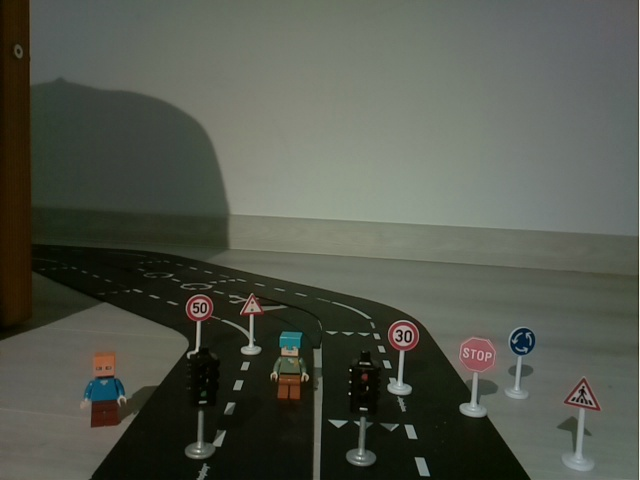green light: (189, 355, 221, 461)
limit 30: (386, 318, 421, 401)
limit 50: (182, 291, 213, 353)
pedestrian sign: (557, 371, 604, 474)
person: (76, 347, 132, 431)
red light: (348, 354, 381, 472)
round: (500, 324, 541, 404)
second person: (267, 326, 313, 402)
stop: (457, 334, 497, 421)
traffic light sign: (239, 291, 266, 356)
